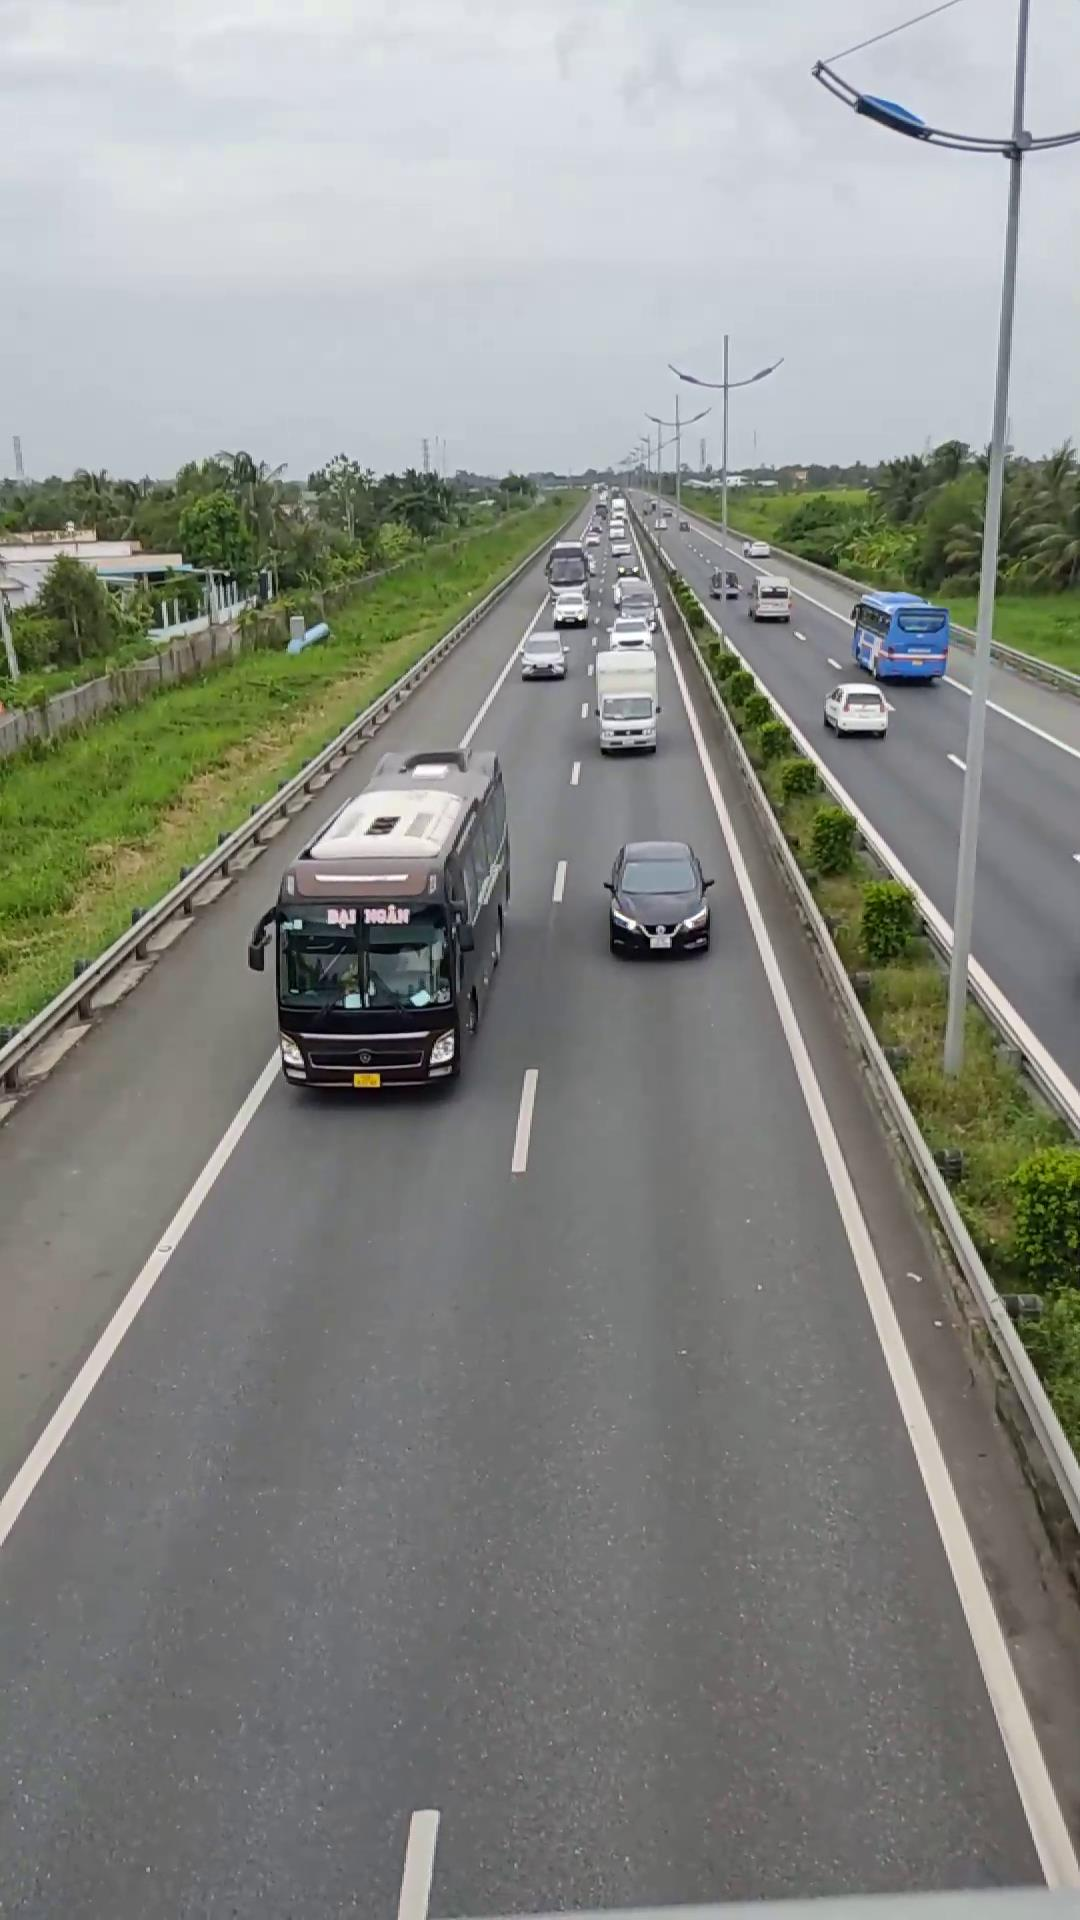bus: (261, 744, 513, 1096)
car: (602, 838, 714, 957)
truck: (852, 587, 951, 684), (590, 638, 663, 754)
